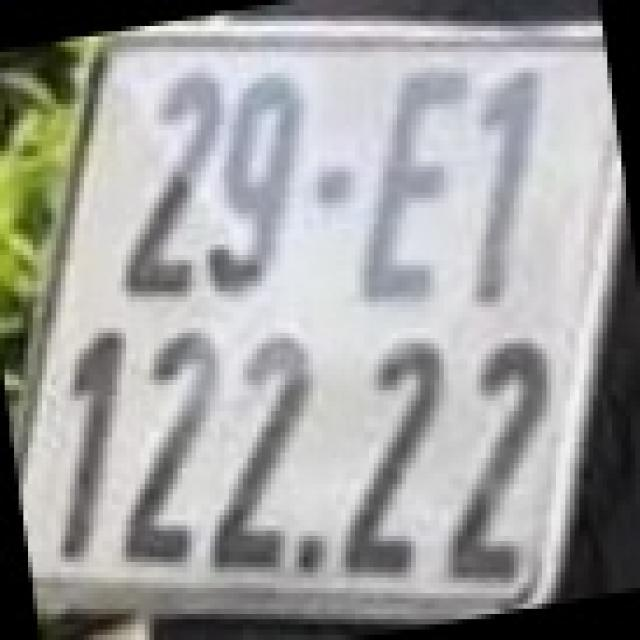1: (472, 62, 542, 302), (56, 328, 126, 562)
2: (448, 338, 546, 583), (210, 332, 304, 572), (346, 338, 440, 572), (121, 68, 215, 296), (126, 328, 215, 562)
9: (210, 78, 299, 292)
E: (370, 62, 462, 302)
